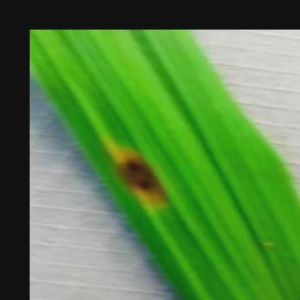Bacterial_Leaf_Blight: (102, 143, 176, 215)
